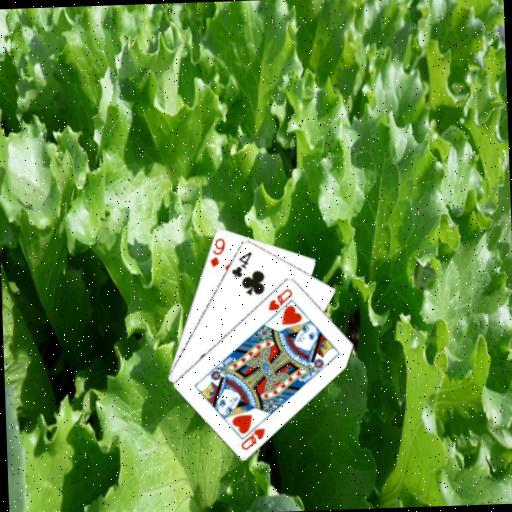4C: (227, 248, 253, 279)
9D: (206, 234, 228, 269)
QH: (236, 417, 267, 452), (264, 284, 295, 312)
